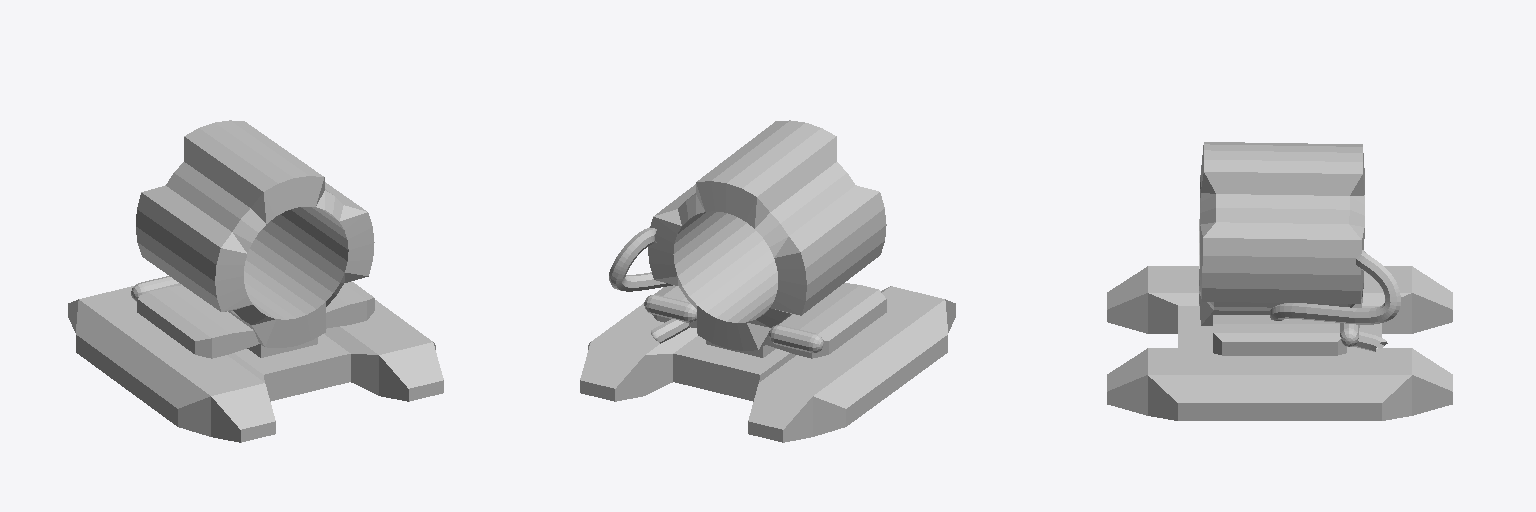
File: Vortex.obj
The picture shows the model from 3 angles: view 1: azimuth 30°, elevation 25°; view 2: azimuth 150°, elevation 25°; view 3: azimuth 270°, elevation 25°; orthographic projection.
Visible parts, largest first — view 1: Tube, Box, Capsule.1; view 2: Tube, Box, Sweep, Capsule.1, Capsule; view 3: Box, Tube, Sweep.
Part boxes in pixels (x1,y1,x2,y2): Tube: (136,120,374,347); Box: (68,281,443,442); Capsule.1: (131,276,181,301); Tube: (648,120,886,350); Box: (580,283,955,442); Sweep: (609,227,689,343); Capsule.1: (769,325,823,352); Capsule: (644,295,696,322); Box: (1107,266,1452,420); Tube: (1199,142,1364,327); Sweep: (1270,250,1400,351).
Bounding box in the file's own units: 1.78 × 1.39 × 2.06.